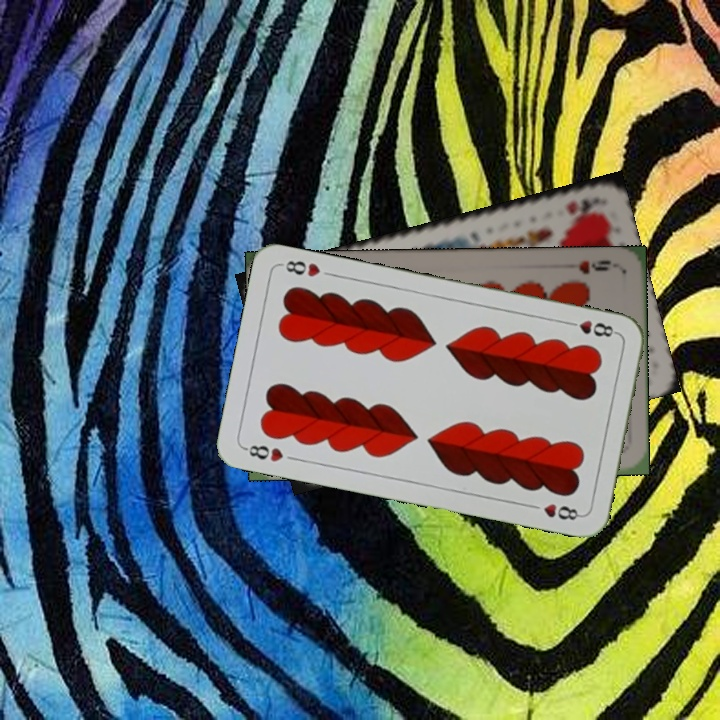H8: (561, 316, 620, 340), (240, 441, 286, 465)
H9: (575, 256, 614, 277)
HK: (562, 195, 596, 218)
